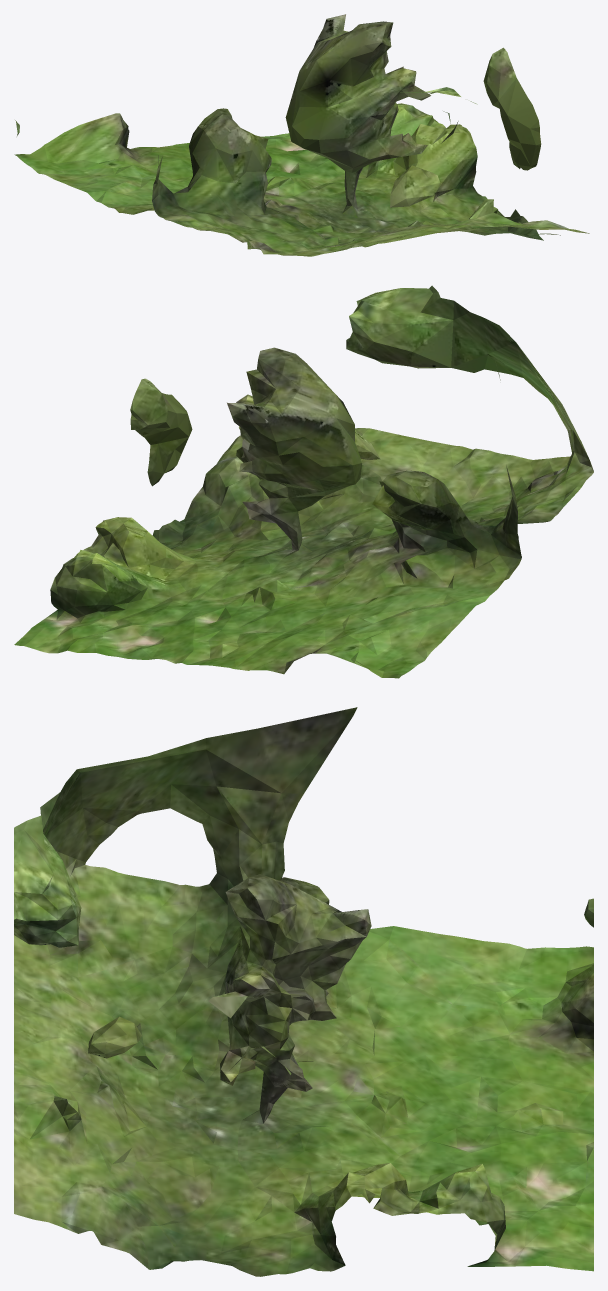
3 renders of one model, top to bottom at view 1: azimuth 30°, elevation 25°; view 2: azimuth 150°, elevation 25°; view 3: azimuth 270°, elevation 25°, orthographic. The views are drawn at different scales.
Size of the model in its own units: 26.11 by 16.12 by 26.11.
Materials: 4 (4 with a texture image).
